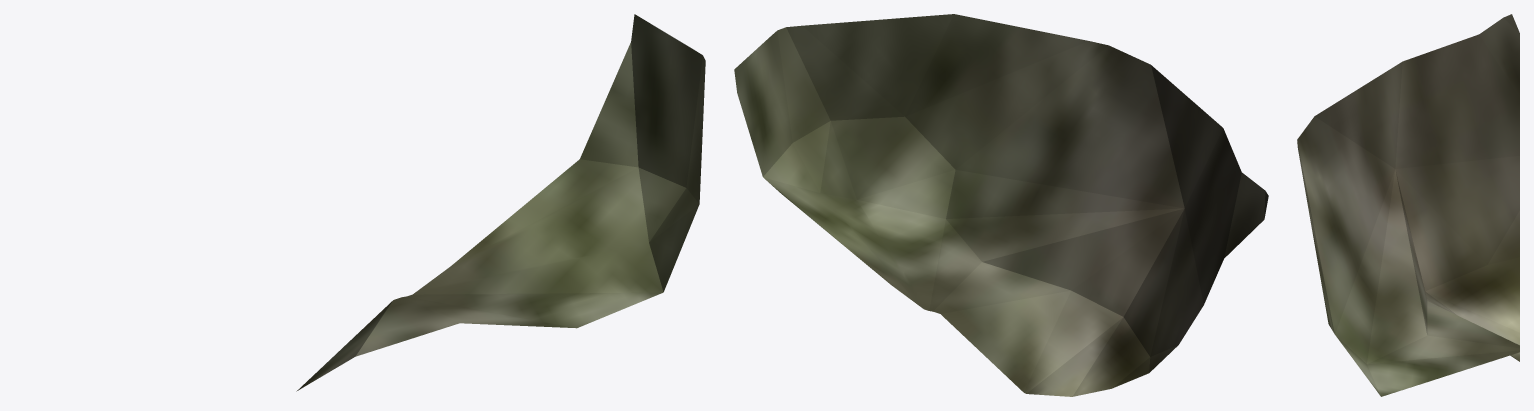
3 renders of one model, left to right at view 1: azimuth 30°, elevation 25°; view 2: azimuth 150°, elevation 25°; view 3: azimuth 270°, elevation 25°, orthographic. The views are drawn at different scales.
Size of the model in its own units: 0.8772 by 0.3945 by 0.3344.
1 material, 1 textured.
